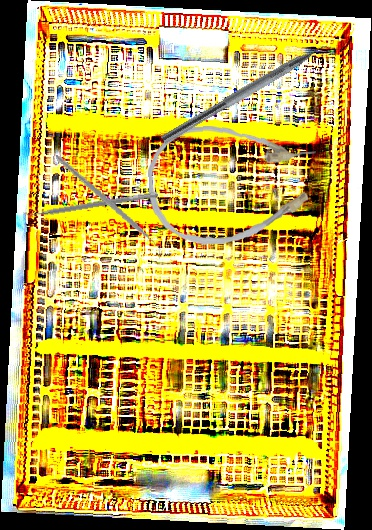Cannula: (146, 120, 321, 248)
Chopper: (160, 31, 346, 157), (41, 155, 175, 260)
Spatula Surgical: (21, 185, 159, 221)
